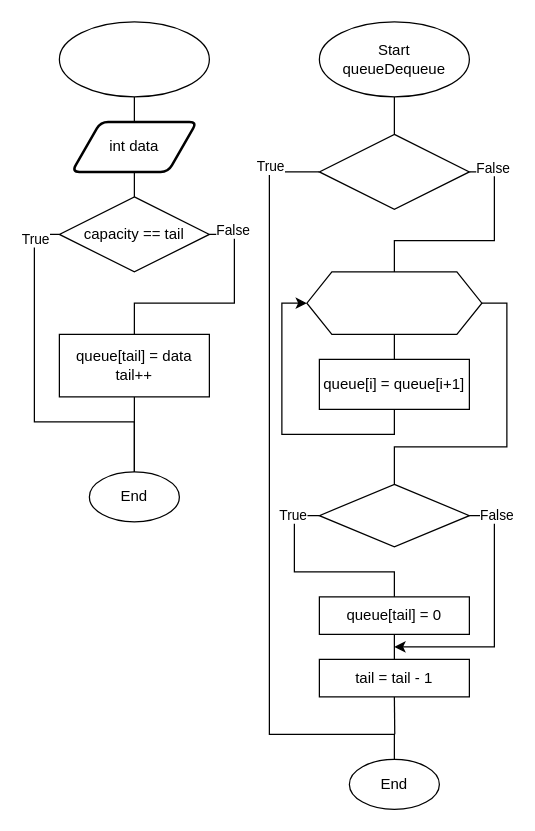
The diagram is 535 pixels wide and 831 high, and some of its shapes have lost their labels. The box of each missing label's shape, as (x1, y1, x2, y2) in pixels:
head == tail: (318, 133, 469, 209)
int i = 0; i < tail - 1; i++: (306, 271, 482, 334)
Start queueEnqueue: (58, 21, 209, 97)
tail < capacity: (318, 483, 469, 547)
